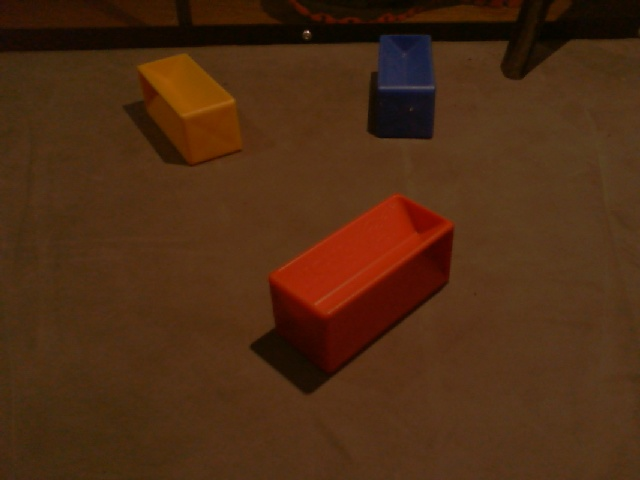BlueSample: (374, 29, 438, 143)
RedSample: (266, 191, 456, 377)
YellowSample: (133, 50, 247, 169)
